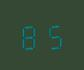eight: (19, 20, 41, 50)
five: (42, 19, 64, 49)
